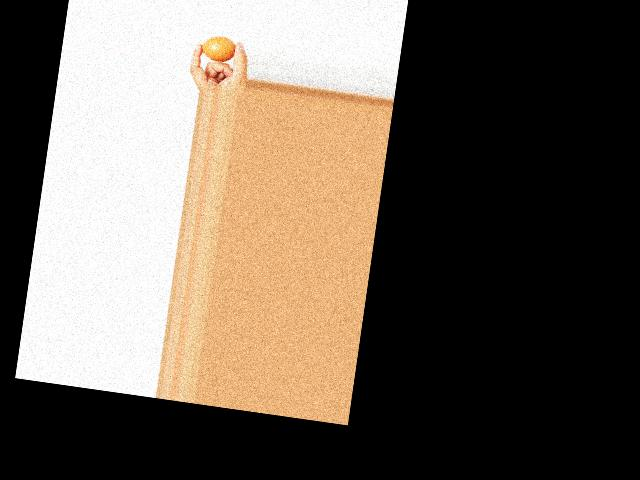egg: (199, 33, 237, 63)
